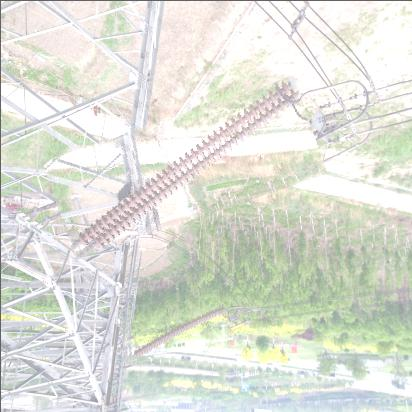insulator: (46, 96, 322, 240), (123, 309, 232, 356)
